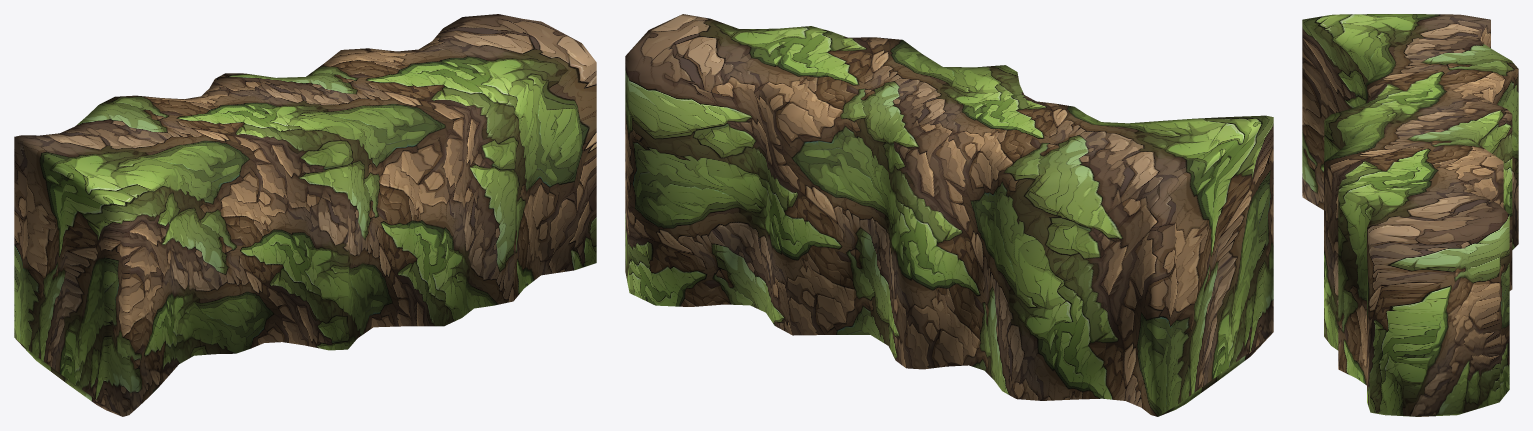
Rendered from Puente.glb.
3 views of the same model, side by side, from view 1: azimuth 30°, elevation 25°; view 2: azimuth 150°, elevation 25°; view 3: azimuth 270°, elevation 25° (orthographic). The views are drawn at different scales.
Visible parts, largest first — view 1: Puente; view 2: Puente; view 3: Puente.
Part boxes in pixels (x1,y1,x2,y2): Puente: [14, 14, 596, 416]; Puente: [625, 14, 1273, 416]; Puente: [1302, 14, 1518, 416].
Bounding box in the file's own units: 0.5848 × 0.227 × 0.2402.
Materials: 1 (1 with a texture image).
